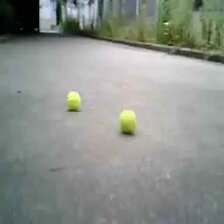tennis: (119, 112, 136, 134), (65, 90, 81, 111)
